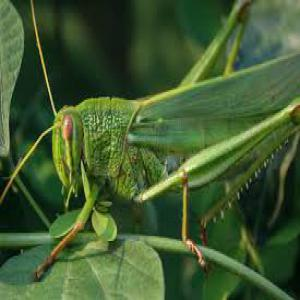locust: (31, 52, 300, 275)
